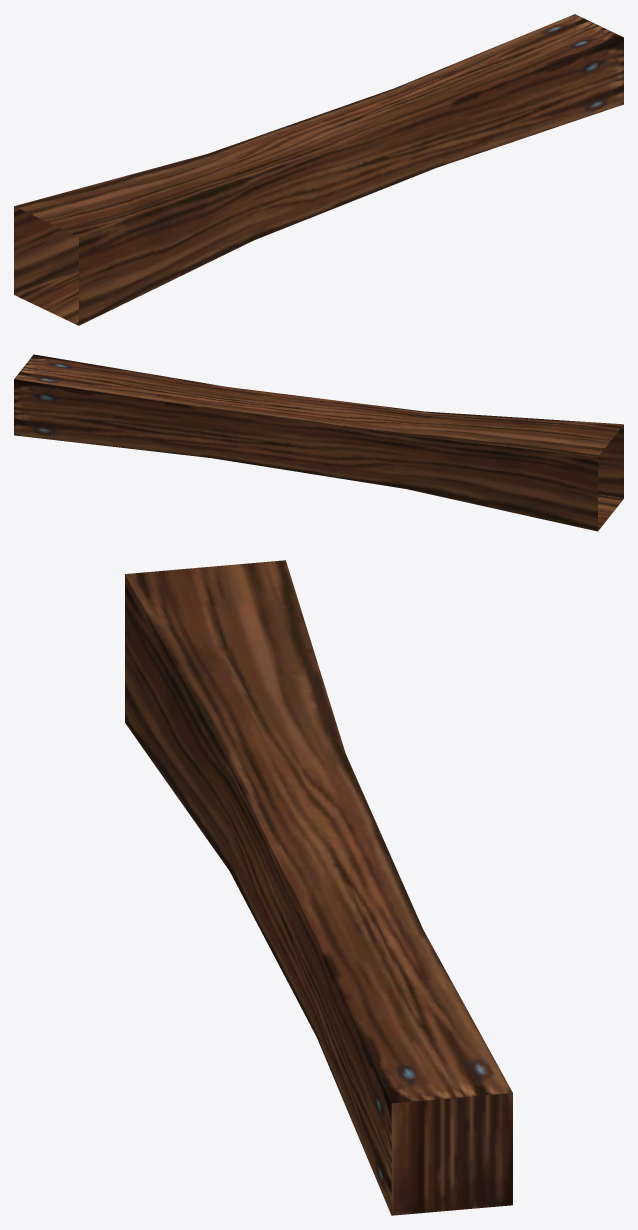
Rendered from OVERHILL_A_01_POST17.fbx.
3 renders of one model, top to bottom at view 1: azimuth 30°, elevation 25°; view 2: azimuth 150°, elevation 25°; view 3: azimuth 270°, elevation 25°, orthographic. The views are drawn at different scales.
Parts seen in each view (by area): view 1: OVERHILL_A_01_POST17; view 2: OVERHILL_A_01_POST17; view 3: OVERHILL_A_01_POST17.
Boxes of the visible parts, box(x1,y1,x2,y2) form: OVERHILL_A_01_POST17: box(14, 14, 623, 325); OVERHILL_A_01_POST17: box(14, 354, 623, 531); OVERHILL_A_01_POST17: box(125, 560, 512, 1215).
Bounding box in the file's own units: 16839 × 2225 × 5260.
1 material, 1 textured.
